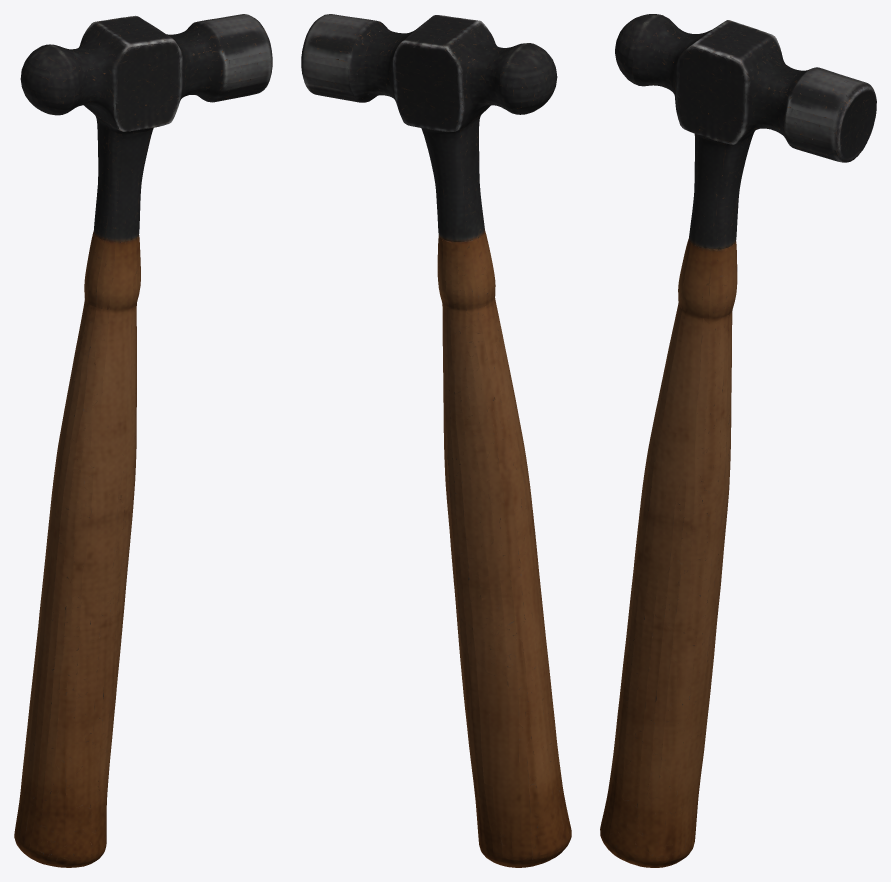
3 renders of one model, left to right at view 1: azimuth 30°, elevation 25°; view 2: azimuth 150°, elevation 25°; view 3: azimuth 330°, elevation 25°, orthographic. The views are drawn at different scales.
Parts seen in each view (by area): view 1: world; view 2: world; view 3: world.
Part boxes in pixels (bbox=[...]): world: bbox=[14, 14, 272, 867]; world: bbox=[301, 14, 571, 867]; world: bbox=[600, 14, 876, 867].
Bounding box in the file's own units: 0.3103 × 1 × 0.1075.
Materials: 1 (1 with a texture image).
